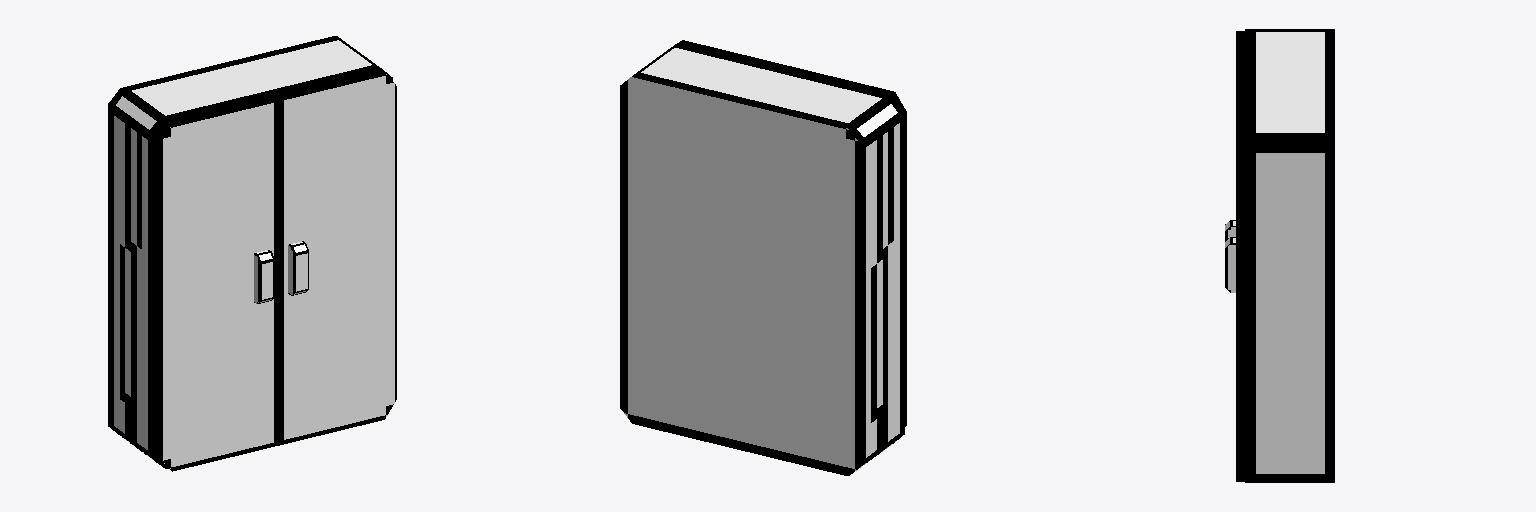
3 views of the same model, side by side, from view 1: azimuth 30°, elevation 25°; view 2: azimuth 150°, elevation 25°; view 3: azimuth 270°, elevation 25° (orthographic).
Visible parts, largest first — view 1: Cube4_copy12, Cube4_sep8, Cube4_sep10; view 2: Cube4_sep10, Cube4_copy12; view 3: Cube4_sep10, Cube4_sep8, Cube4_copy12.
Boxes of the visible parts, x1,y1,x2,y2 form: Cube4_copy12: [156, 95, 279, 471]; Cube4_sep8: [273, 69, 396, 445]; Cube4_sep10: [108, 36, 392, 468]; Cube4_sep10: [620, 43, 904, 475]; Cube4_copy12: [785, 66, 906, 426]; Cube4_sep10: [1245, 29, 1334, 482]; Cube4_sep8: [1225, 82, 1245, 481]; Cube4_copy12: [1225, 31, 1244, 240].
Size of the model in its own units: 3.89 by 5.4 by 1.56.
5 materials, 1 textured.